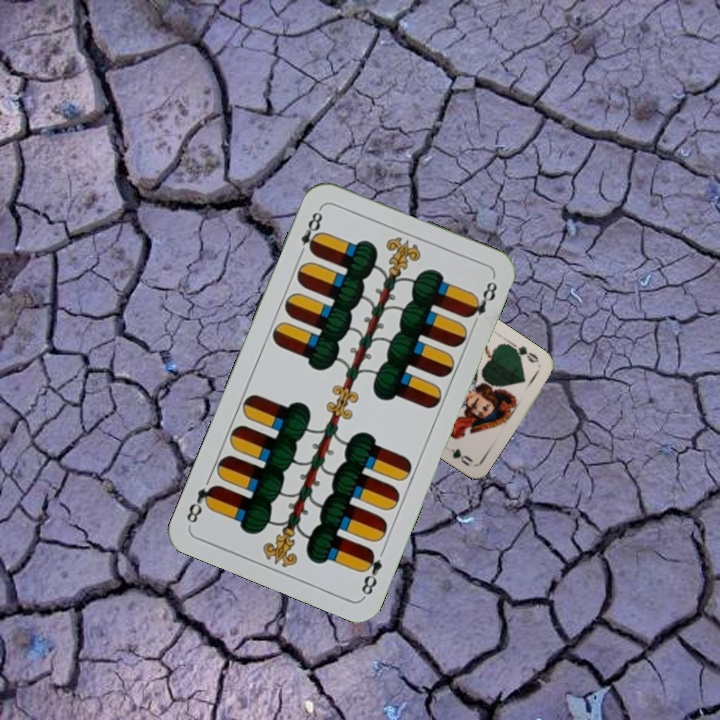E8: (294, 204, 326, 260), (357, 544, 385, 600)
GO: (505, 338, 541, 366)
